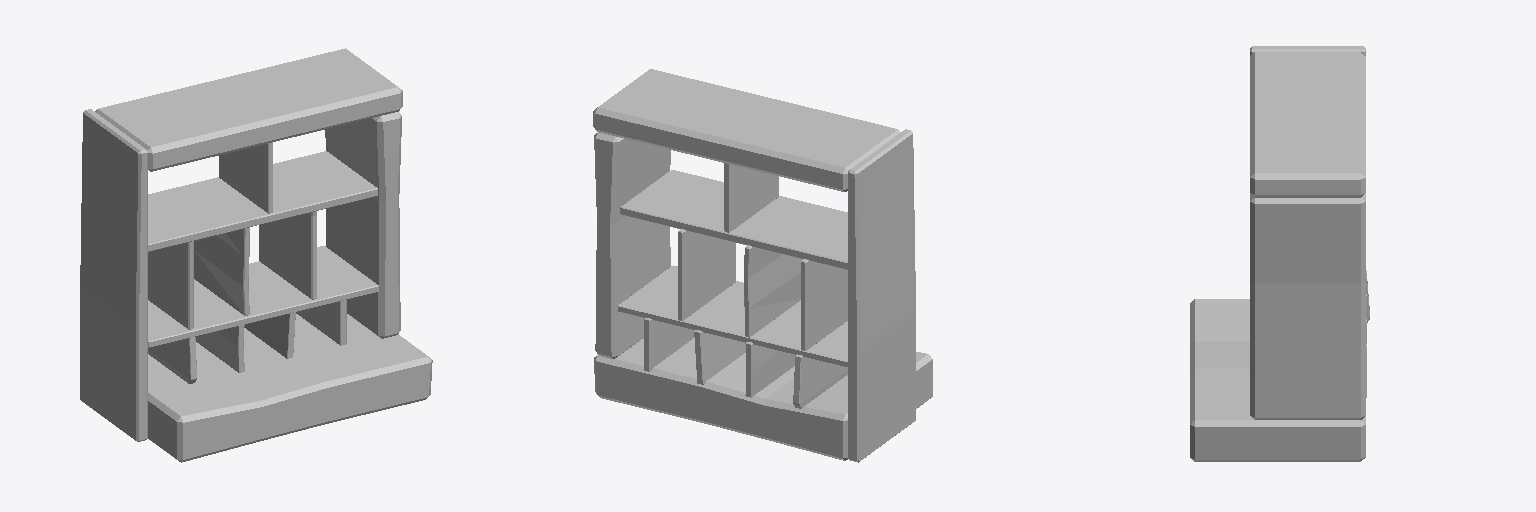
File: SetA_Shelve_Style_06B.obj
3 views of the same model, side by side, from view 1: azimuth 30°, elevation 25°; view 2: azimuth 150°, elevation 25°; view 3: azimuth 270°, elevation 25° (orthographic).
Parts seen in each view (by area): view 1: SetA_Shelve_Style_06B; view 2: SetA_Shelve_Style_06B; view 3: SetA_Shelve_Style_06B.
Part boxes in pixels (x1,y1,x2,y2): SetA_Shelve_Style_06B: (80, 48, 432, 462); SetA_Shelve_Style_06B: (593, 69, 932, 462); SetA_Shelve_Style_06B: (1190, 46, 1369, 461).
Bounding box in the file's own units: 0.7991 × 0.8352 × 0.4651.